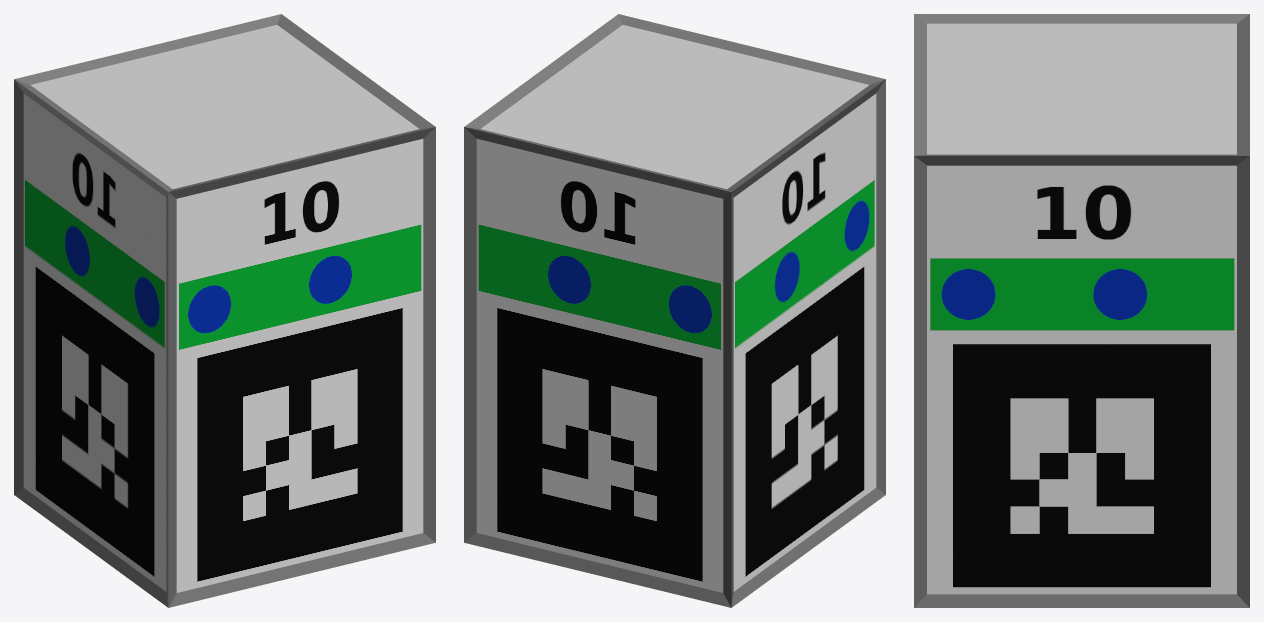
Rendered from marker10.dae.
The picture shows the model from 3 angles, left to right: view 1: azimuth 30°, elevation 25°; view 2: azimuth 150°, elevation 25°; view 3: azimuth 270°, elevation 25°; orthographic projection. The views are drawn at different scales.
Visible parts, largest first — view 1: Cube, Cube_001; view 2: Cube, Cube_001; view 3: Cube, Cube_001.
Boxes of the visible parts, box(x1,y1,x2,y2) form: Cube: box(23, 25, 423, 592); Cube_001: box(14, 14, 435, 607); Cube: box(476, 25, 876, 592); Cube_001: box(464, 14, 885, 607); Cube: box(927, 23, 1236, 594); Cube_001: box(914, 14, 1249, 607).
Bounding box in the file's own units: 2.06 × 2.06 × 3.06.
3 materials, 1 textured.
